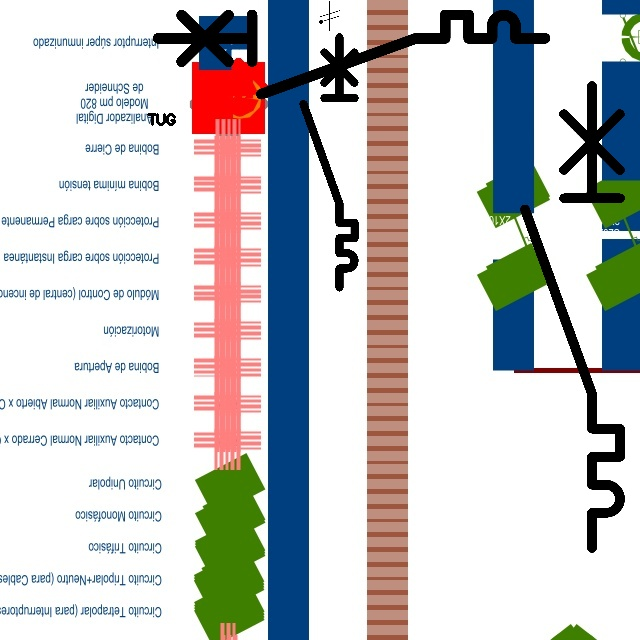interruptor_termomagnetico: (513, 74, 632, 560), (148, 5, 555, 104), (297, 30, 361, 293)
